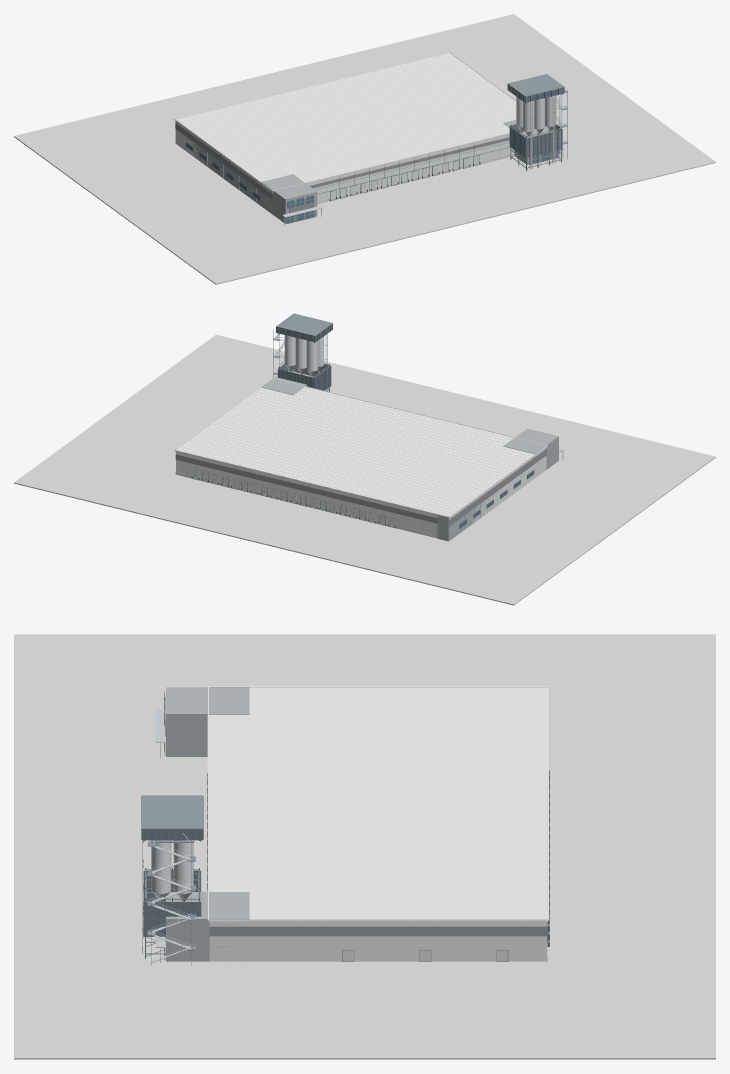
The model's file is mapei-drymix.glb.
3 views of the same model, one above another, from view 1: azimuth 30°, elevation 25°; view 2: azimuth 150°, elevation 25°; view 3: azimuth 270°, elevation 25° (orthographic). The views are drawn at different scales.
Parts seen in each view (by area): view 1: ground, roof, walls, office_medium, office_dark, wall_shade, tower_cladding, roof_seam, metal_light, tower_trim, steel_mid, tower_seam (+3 smaller); view 2: ground, roof, walls, office_medium, office_dark, wall_shade, roof_seam, metal_light, tower_cladding, tower_trim, tower_seam, steel_mid (+1 smaller); view 3: ground, roof, walls, office_medium, office_dark, roof_seam, tower_trim, tower_cladding, metal_light, steel_mid, metal.
Part boxes in pixels (x1,y1,x2,y2): ground: (14, 14, 715, 284); roof: (174, 52, 516, 191); walls: (174, 52, 515, 201); office_medium: (175, 120, 558, 223); office_dark: (175, 122, 557, 223); wall_shade: (313, 140, 514, 204); tower_cladding: (508, 84, 564, 158); roof_seam: (184, 54, 515, 178); metal_light: (516, 91, 567, 169); tower_trim: (507, 74, 564, 159); steel_mid: (317, 90, 567, 200); tower_seam: (507, 84, 564, 157); ground: (14, 334, 715, 605); roof: (174, 386, 547, 517); walls: (174, 378, 547, 539); office_medium: (261, 370, 558, 541); office_dark: (175, 448, 546, 526); wall_shade: (175, 469, 449, 540); roof_seam: (184, 390, 528, 515); metal_light: (273, 335, 324, 375); tower_cladding: (276, 323, 332, 390); tower_trim: (276, 313, 332, 390); tower_seam: (278, 324, 332, 390); steel_mid: (192, 329, 394, 527); ground: (14, 634, 715, 1059); roof: (207, 687, 548, 921); walls: (207, 686, 549, 961); office_medium: (166, 687, 249, 961); office_dark: (164, 697, 547, 959); roof_seam: (216, 688, 542, 918); tower_trim: (141, 795, 203, 937); tower_cladding: (141, 829, 203, 936); metal_light: (142, 840, 195, 959); steel_mid: (144, 774, 549, 965); metal: (150, 695, 191, 963).
Size of the model in its own units: 300 by 44.22 by 210.
